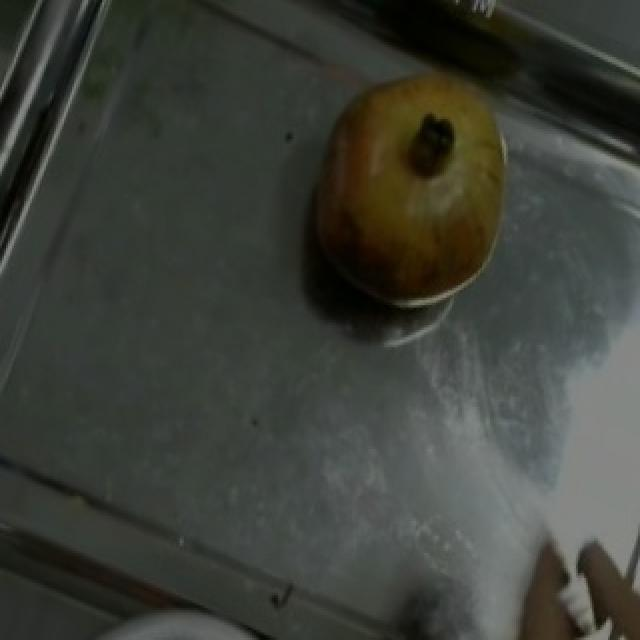fruit: (292, 47, 540, 333)
